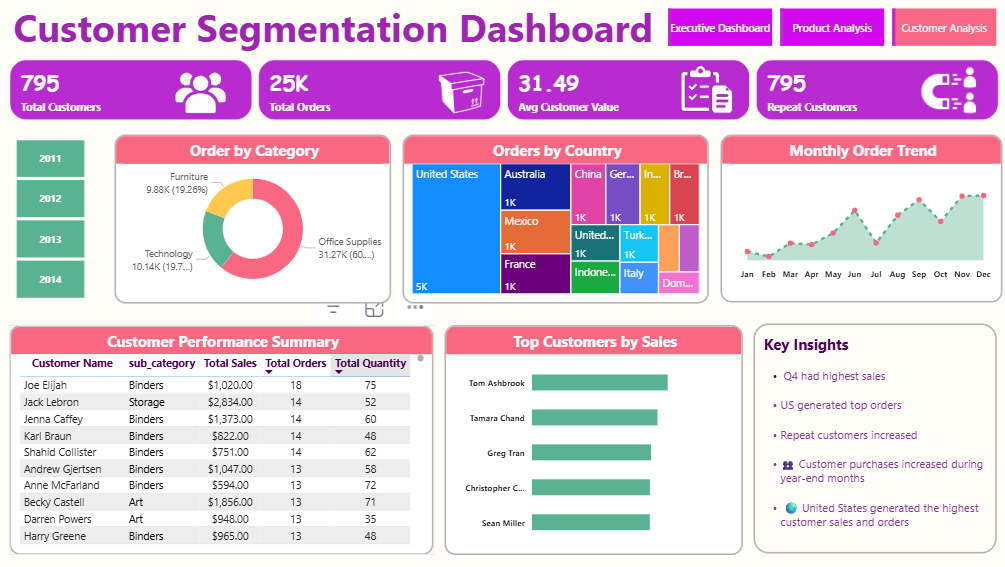

The dashboard page shown, as its layout file describes it:
{"tool":"powerbi","page":{"name":"Customer Analysis ","canvas":[1280,720],"ordinal":2},"visuals":[{"type":"tableEx","title":"Customer Performance Summary ","fields":{"Values":["Sales Data.customer_name","Sales Data.sub_category","Sales Data.total sales","Sales Data.Total Orders","Sales Data.total quantity"]},"box":[16.7,414.6,533.3,289.6],"z":0},{"type":"donutChart","title":"Order by Category ","fields":{"Y":["CountNonNull(Sales Data.segment)"],"Category":["Sales Data.category"]},"box":[149.6,175,347.9,212.5],"z":1000},{"type":"slicer","fields":{"Values":["Calander Table.year"]},"box":[0,175,135.4,212.5],"z":2000},{"type":"treemap","fields":{"Group":["Sales Data.country","Sales Data.region","Sales Data.state"],"Values":["Sales Data.Total Orders"]},"box":[511.7,175,385.4,212.5],"z":3000},{"type":"cardVisual","fields":{"Data":["Sales Data.Total Customers","Sales Data.Total Orders","Sales Data.Avg Orders per Customer","Sales Data.Repeat Customers"]},"box":[0,64.6,1279.2,110.4],"z":4000},{"type":"areaChart","title":"Monthly Order Trend ","fields":{"Category":["Calander Table.Month"],"Y":["Sales Data.Total Orders"]},"box":[911.3,175.5,354.7,211.3],"z":5000},{"type":"barChart","title":"Top Customers by Sales","fields":{"Category":["Sales Data.customer_name"],"Y":["Sales Data.total sales"]},"box":[564.6,414.6,375,289.6],"z":6000},{"type":"textbox","title":"Customer Segmentation Dashboard","box":[16.7,7.1,828.6,64.3],"z":7000},{"type":"image","box":[198.8,86.1,122.6,64.6],"z":8000},{"type":"image","box":[816.6,86.1,150.7,64.6],"z":9000},{"type":"image","box":[508.5,89.4,150.7,64.6],"z":10000},{"type":"image","box":[1131.4,86.1,134.2,69.6],"z":11000},{"type":"pageNavigator","box":[845.2,16.7,414.3,47.6],"z":12000},{"type":"textbox","box":[952.4,413.9,306.1,289.1],"z":13000}]}

Visuals, with their boxes in screenshot pixels (x1, y1, x2, y2), scaled from the page's 1280x720 canvas onto the 1005x567 screenshot:
"Customer Performance Summary " tableEx: bbox=(13, 326, 432, 555)
"Order by Category " donutChart: bbox=(117, 138, 391, 305)
slicer - Calander Table.year: bbox=(0, 138, 106, 305)
treemap - Sales Data.country x Sales Data.region: bbox=(402, 138, 704, 305)
cardVisual - Sales Data.Total Customers x Sales Data.Total Orders: bbox=(0, 51, 1004, 138)
"Monthly Order Trend " areaChart: bbox=(716, 138, 994, 305)
"Top Customers by Sales" barChart: bbox=(443, 326, 738, 555)
"Customer Segmentation Dashboard" textbox: bbox=(13, 6, 664, 56)
image: bbox=(156, 68, 252, 119)
image: bbox=(641, 68, 759, 119)
image: bbox=(399, 70, 518, 121)
image: bbox=(888, 68, 994, 123)
pageNavigator: bbox=(664, 13, 989, 51)
textbox: bbox=(748, 326, 988, 554)
